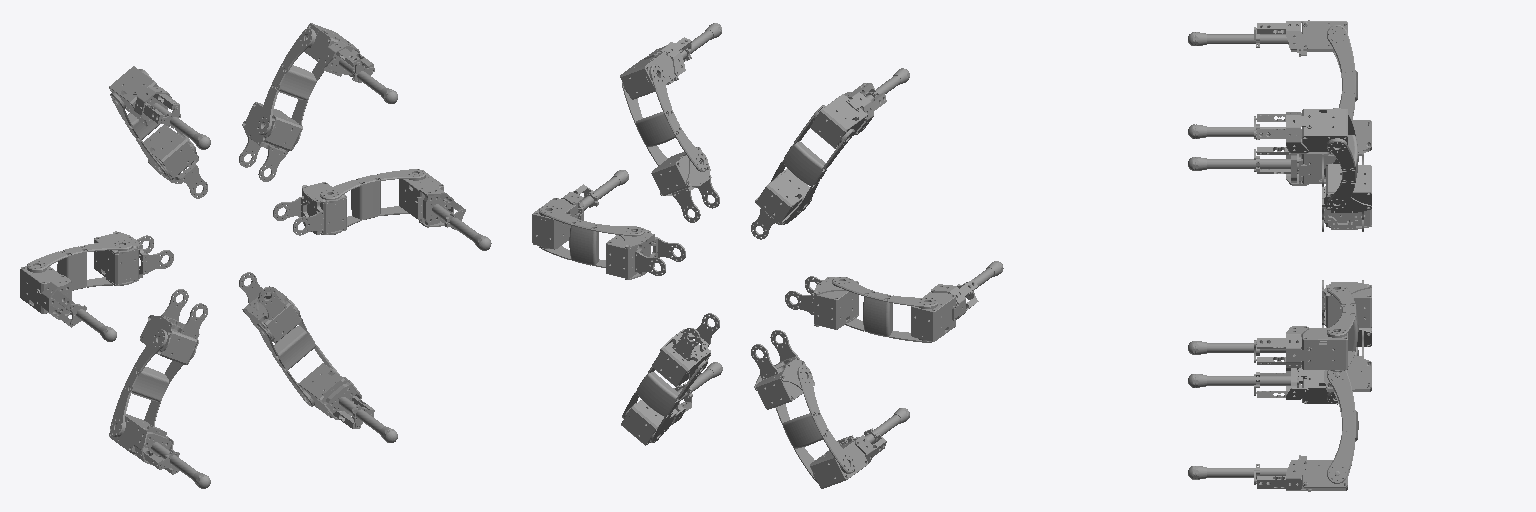
--- What the picture shows (computed from the rendered views, not written in the file) ---
Views: 3 orthographic renders of the robot side by side, from view 1: azimuth 30°, elevation 25°; view 2: azimuth 150°, elevation 25°; view 3: azimuth 270°, elevation 25°.
Model hapthexa with 19 links and 18 joints (18 continuous), rooted at base_link, posed all joints at 0.
Links seen in each view (by area): view 1: _Tibia__4__1, _Tibia_1, _Tibia__5__1, _Tibia__2__1, _Femur__3__1, _Tibia__1__1, _Tibia__3__1, _Femur__1__1, _Coxa__5__1, _Coxa__1__1, _Coxa__3__1, _Coxa__2__1 (+6 smaller); view 2: _Tibia_1, _Tibia__5__1, _Femur__1__1, _Femur__3__1, _Coxa__2__1, _Tibia__1__1, _Coxa__3__1, _Coxa__4__1, _Tibia__2__1, _Tibia__3__1, _Coxa__1__1, _Coxa__5__1 (+6 smaller); view 3: _Tibia__2__1, _Tibia__1__1, _Tibia__4__1, _Tibia_1, _Tibia__5__1, _Tibia__3__1, _Femur__4__1, _Coxa__1__1, _Femur__1__1, _Femur_1, _Coxa__2__1, _Femur__2__1 (+3 smaller).
Link boxes in pixels (x1=…): _Tibia__4__1: x1=298, y1=363, x2=397, y2=442; _Tibia_1: x1=109, y1=66, x2=210, y2=149; _Tibia__5__1: x1=20, y1=265, x2=116, y2=341; _Tibia__2__1: x1=399, y1=170, x2=491, y2=250; _Femur__3__1: x1=110, y1=329, x2=183, y2=436; _Tibia__1__1: x1=304, y1=23, x2=397, y2=103; _Tibia__3__1: x1=109, y1=414, x2=210, y2=488; _Femur__1__1: x1=257, y1=28, x2=323, y2=135; _Coxa__5__1: x1=94, y1=231, x2=173, y2=285; _Coxa__1__1: x1=239, y1=102, x2=302, y2=181; _Coxa__3__1: x1=140, y1=289, x2=207, y2=364; _Coxa__2__1: x1=273, y1=182, x2=346, y2=235; _Tibia_1: x1=810, y1=68, x2=909, y2=148; _Tibia__5__1: x1=911, y1=261, x2=1003, y2=341; _Femur__1__1: x1=622, y1=64, x2=707, y2=171; _Femur__3__1: x1=775, y1=366, x2=854, y2=482; _Coxa__2__1: x1=606, y1=228, x2=685, y2=279; _Tibia__1__1: x1=620, y1=23, x2=721, y2=99; _Coxa__3__1: x1=751, y1=330, x2=814, y2=409; _Coxa__4__1: x1=652, y1=313, x2=719, y2=387; _Tibia__2__1: x1=532, y1=170, x2=628, y2=249; _Tibia__3__1: x1=810, y1=408, x2=909, y2=488; _Coxa__1__1: x1=651, y1=147, x2=719, y2=222; _Coxa__5__1: x1=785, y1=276, x2=858, y2=329; _Tibia__2__1: x1=1188, y1=326, x2=1347, y2=369; _Tibia__1__1: x1=1188, y1=109, x2=1347, y2=152; _Tibia__4__1: x1=1188, y1=455, x2=1347, y2=491; _Tibia_1: x1=1188, y1=20, x2=1347, y2=56; _Tibia__5__1: x1=1188, y1=146, x2=1336, y2=185; _Tibia__3__1: x1=1188, y1=367, x2=1336, y2=403; _Femur__4__1: x1=1327, y1=370, x2=1358, y2=483; _Coxa__1__1: x1=1322, y1=164, x2=1371, y2=219; _Femur__1__1: x1=1327, y1=108, x2=1358, y2=208; _Femur_1: x1=1327, y1=25, x2=1357, y2=120; _Coxa__2__1: x1=1322, y1=280, x2=1371, y2=327; _Femur__2__1: x1=1327, y1=284, x2=1358, y2=371.
Size in the robot's own frame: 0.4755 by 0.186 by 0.4258 metres.
Meshes: 19 distinct files referenced, 18 mesh visuals loaded (18 binary STL); not drawn: 1 (reference not matched to a file when rendering).

robot.urdf — hapthexa:
<?xml version="1.0" ?>
<!-- =================================================================================== -->
<!-- |    This document was autogenerated by xacro from [local-path]/ros2_ws/src/hapthexa_description/urdf/hapthexa.xacro | -->
<!-- |    EDITING THIS FILE BY HAND IS NOT RECOMMENDED                                 | -->
<!-- =================================================================================== -->
<robot name="hapthexa">
  <material name="silver_default">
    <color rgba="0.700 0.700 0.700 1.000"/>
  </material>
  <material name="opaque555">
    <color rgba="0.0196078431372549 0.0196078431372549 0.0196078431372549 1.0"/>
  </material>
  <material name="_">
    <color rgba="0.6274509803921569 0.6274509803921569 0.6274509803921569 1.0"/>
  </material>
  <transmission name="rev1_tran">
    <type>transmission_interface/SimpleTransmission</type>
    <joint name="rev1">
      <hardwareInterface>hardware_interface/EffortJointInterface</hardwareInterface>
    </joint>
    <actuator name="rev1_actr">
      <hardwareInterface>hardware_interface/EffortJointInterface</hardwareInterface>
      <mechanicalReduction>1</mechanicalReduction>
    </actuator>
  </transmission>
  <transmission name="rev2_tran">
    <type>transmission_interface/SimpleTransmission</type>
    <joint name="rev2">
      <hardwareInterface>hardware_interface/EffortJointInterface</hardwareInterface>
    </joint>
    <actuator name="rev2_actr">
      <hardwareInterface>hardware_interface/EffortJointInterface</hardwareInterface>
      <mechanicalReduction>1</mechanicalReduction>
    </actuator>
  </transmission>
  <transmission name="rev3_tran">
    <type>transmission_interface/SimpleTransmission</type>
    <joint name="rev3">
      <hardwareInterface>hardware_interface/EffortJointInterface</hardwareInterface>
    </joint>
    <actuator name="rev3_actr">
      <hardwareInterface>hardware_interface/EffortJointInterface</hardwareInterface>
      <mechanicalReduction>1</mechanicalReduction>
    </actuator>
  </transmission>
  <transmission name="rev4_tran">
    <type>transmission_interface/SimpleTransmission</type>
    <joint name="rev4">
      <hardwareInterface>hardware_interface/EffortJointInterface</hardwareInterface>
    </joint>
    <actuator name="rev4_actr">
      <hardwareInterface>hardware_interface/EffortJointInterface</hardwareInterface>
      <mechanicalReduction>1</mechanicalReduction>
    </actuator>
  </transmission>
  <transmission name="rev5_tran">
    <type>transmission_interface/SimpleTransmission</type>
    <joint name="rev5">
      <hardwareInterface>hardware_interface/EffortJointInterface</hardwareInterface>
    </joint>
    <actuator name="rev5_actr">
      <hardwareInterface>hardware_interface/EffortJointInterface</hardwareInterface>
      <mechanicalReduction>1</mechanicalReduction>
    </actuator>
  </transmission>
  <transmission name="rev6_tran">
    <type>transmission_interface/SimpleTransmission</type>
    <joint name="rev6">
      <hardwareInterface>hardware_interface/EffortJointInterface</hardwareInterface>
    </joint>
    <actuator name="rev6_actr">
      <hardwareInterface>hardware_interface/EffortJointInterface</hardwareInterface>
      <mechanicalReduction>1</mechanicalReduction>
    </actuator>
  </transmission>
  <transmission name="rev7_tran">
    <type>transmission_interface/SimpleTransmission</type>
    <joint name="rev7">
      <hardwareInterface>hardware_interface/EffortJointInterface</hardwareInterface>
    </joint>
    <actuator name="rev7_actr">
      <hardwareInterface>hardware_interface/EffortJointInterface</hardwareInterface>
      <mechanicalReduction>1</mechanicalReduction>
    </actuator>
  </transmission>
  <transmission name="rev8_tran">
    <type>transmission_interface/SimpleTransmission</type>
    <joint name="rev8">
      <hardwareInterface>hardware_interface/EffortJointInterface</hardwareInterface>
    </joint>
    <actuator name="rev8_actr">
      <hardwareInterface>hardware_interface/EffortJointInterface</hardwareInterface>
      <mechanicalReduction>1</mechanicalReduction>
    </actuator>
  </transmission>
  <transmission name="rev9_tran">
    <type>transmission_interface/SimpleTransmission</type>
    <joint name="rev9">
      <hardwareInterface>hardware_interface/EffortJointInterface</hardwareInterface>
    </joint>
    <actuator name="rev9_actr">
      <hardwareInterface>hardware_interface/EffortJointInterface</hardwareInterface>
      <mechanicalReduction>1</mechanicalReduction>
    </actuator>
  </transmission>
  <transmission name="rev10_tran">
    <type>transmission_interface/SimpleTransmission</type>
    <joint name="rev10">
      <hardwareInterface>hardware_interface/EffortJointInterface</hardwareInterface>
    </joint>
    <actuator name="rev10_actr">
      <hardwareInterface>hardware_interface/EffortJointInterface</hardwareInterface>
      <mechanicalReduction>1</mechanicalReduction>
    </actuator>
  </transmission>
  <transmission name="rev11_tran">
    <type>transmission_interface/SimpleTransmission</type>
    <joint name="rev11">
      <hardwareInterface>hardware_interface/EffortJointInterface</hardwareInterface>
    </joint>
    <actuator name="rev11_actr">
      <hardwareInterface>hardware_interface/EffortJointInterface</hardwareInterface>
      <mechanicalReduction>1</mechanicalReduction>
    </actuator>
  </transmission>
  <transmission name="rev12_tran">
    <type>transmission_interface/SimpleTransmission</type>
    <joint name="rev12">
      <hardwareInterface>hardware_interface/EffortJointInterface</hardwareInterface>
    </joint>
    <actuator name="rev12_actr">
      <hardwareInterface>hardware_interface/EffortJointInterface</hardwareInterface>
      <mechanicalReduction>1</mechanicalReduction>
    </actuator>
  </transmission>
  <transmission name="rev13_tran">
    <type>transmission_interface/SimpleTransmission</type>
    <joint name="rev13">
      <hardwareInterface>hardware_interface/EffortJointInterface</hardwareInterface>
    </joint>
    <actuator name="rev13_actr">
      <hardwareInterface>hardware_interface/EffortJointInterface</hardwareInterface>
      <mechanicalReduction>1</mechanicalReduction>
    </actuator>
  </transmission>
  <transmission name="rev14_tran">
    <type>transmission_interface/SimpleTransmission</type>
    <joint name="rev14">
      <hardwareInterface>hardware_interface/EffortJointInterface</hardwareInterface>
    </joint>
    <actuator name="rev14_actr">
      <hardwareInterface>hardware_interface/EffortJointInterface</hardwareInterface>
      <mechanicalReduction>1</mechanicalReduction>
    </actuator>
  </transmission>
  <transmission name="rev15_tran">
    <type>transmission_interface/SimpleTransmission</type>
    <joint name="rev15">
      <hardwareInterface>hardware_interface/EffortJointInterface</hardwareInterface>
    </joint>
    <actuator name="rev15_actr">
      <hardwareInterface>hardware_interface/EffortJointInterface</hardwareInterface>
      <mechanicalReduction>1</mechanicalReduction>
    </actuator>
  </transmission>
  <transmission name="rev16_tran">
    <type>transmission_interface/SimpleTransmission</type>
    <joint name="rev16">
      <hardwareInterface>hardware_interface/EffortJointInterface</hardwareInterface>
    </joint>
    <actuator name="rev16_actr">
      <hardwareInterface>hardware_interface/EffortJointInterface</hardwareInterface>
      <mechanicalReduction>1</mechanicalReduction>
    </actuator>
  </transmission>
  <transmission name="rev17_tran">
    <type>transmission_interface/SimpleTransmission</type>
    <joint name="rev17">
      <hardwareInterface>hardware_interface/EffortJointInterface</hardwareInterface>
    </joint>
    <actuator name="rev17_actr">
      <hardwareInterface>hardware_interface/EffortJointInterface</hardwareInterface>
      <mechanicalReduction>1</mechanicalReduction>
    </actuator>
  </transmission>
  <transmission name="rev18_tran">
    <type>transmission_interface/SimpleTransmission</type>
    <joint name="rev18">
      <hardwareInterface>hardware_interface/EffortJointInterface</hardwareInterface>
    </joint>
    <actuator name="rev18_actr">
      <hardwareInterface>hardware_interface/EffortJointInterface</hardwareInterface>
      <mechanicalReduction>1</mechanicalReduction>
    </actuator>
  </transmission>
  <link name="base_link">
    <inertial>
      <origin rpy="0 0 0" xyz="-0.023482686234529128 0.009399208569724241 -0.030381180045183934"/>
      <mass value="0.5111070184633425"/>
      <inertia ixx="0.001015" ixy="3e-06" ixz="-3e-06" iyy="0.001772" iyz="-1e-06" izz="0.000909"/>
    </inertial>
    <visual>
      <origin rpy="0 0 0" xyz="0 0 0"/>
      <geometry>
        <mesh filename="package://hapthexa_description/meshes/base_link.stl" scale="0.001 0.001 0.001"/>
      </geometry>
      <material name="opaque555"/>
    </visual>
    <collision>
      <origin rpy="0 0 0" xyz="0 0 0"/>
      <geometry>
        <mesh filename="package://hapthexa_description/meshes/base_link.stl" scale="0.001 0.001 0.001"/>
      </geometry>
    </collision>
  </link>
  <link name="_Coxa__4__1">
    <inertial>
      <origin rpy="0 0 0" xyz="0.019504685340380374 -0.012341676148518561 -0.03452353861717494"/>
      <mass value="0.050011908854628584"/>
      <inertia ixx="1.5e-05" ixy="-0.0" ixz="0.0" iyy="1.1e-05" iyz="0.0" izz="1.5e-05"/>
    </inertial>
    <visual>
      <origin rpy="0 0 0" xyz="-0.016517 -0.026286 0.099741"/>
      <geometry>
        <mesh filename="package://hapthexa_description/meshes/_Coxa__4__1.stl" scale="0.001 0.001 0.001"/>
      </geometry>
      <material name="_"/>
    </visual>
    <collision>
      <origin rpy="0 0 0" xyz="-0.016517 -0.026286 0.099741"/>
      <geometry>
        <mesh filename="package://hapthexa_description/meshes/_Coxa__4__1.stl" scale="0.001 0.001 0.001"/>
      </geometry>
    </collision>
  </link>
  <link name="_Coxa__2__1">
    <inertial>
      <origin rpy="0 0 0" xyz="0.039650915389736474 -0.012341676148518515 -0.0003698293133218289"/>
      <mass value="0.050011908854628584"/>
      <inertia ixx="1.5e-05" ixy="-0.0" ixz="0.0" iyy="1.1e-05" iyz="-0.0" izz="1.5e-05"/>
    </inertial>
    <visual>
      <origin rpy="0 0 0" xyz="-0.056517 -0.026286 0.030459"/>
      <geometry>
        <mesh filename="package://hapthexa_description/meshes/_Coxa__2__1.stl" scale="0.001 0.001 0.001"/>
      </geometry>
      <material name="_"/>
    </visual>
    <collision>
      <origin rpy="0 0 0" xyz="-0.056517 -0.026286 0.030459"/>
      <geometry>
        <mesh filename="package://hapthexa_description/meshes/_Coxa__2__1.stl" scale="0.001 0.001 0.001"/>
      </geometry>
    </collision>
  </link>
  <link name="_Coxa__1__1">
    <inertial>
      <origin rpy="0 0 0" xyz="0.020283607961812552 -0.012341676148510491 0.03407168985837998"/>
      <mass value="0.050011908854628584"/>
      <inertia ixx="1.5e-05" ixy="-0.0" ixz="-0.0" iyy="1.1e-05" iyz="-0.0" izz="1.5e-05"/>
    </inertial>
    <visual>
      <origin rpy="0 0 0" xyz="-0.016517 -0.026286 -0.038824"/>
      <geometry>
        <mesh filename="package://hapthexa_description/meshes/_Coxa__1__1.stl" scale="0.001 0.001 0.001"/>
      </geometry>
      <material name="_"/>
    </visual>
    <collision>
      <origin rpy="0 0 0" xyz="-0.016517 -0.026286 -0.038824"/>
      <geometry>
        <mesh filename="package://hapthexa_description/meshes/_Coxa__1__1.stl" scale="0.001 0.001 0.001"/>
      </geometry>
    </collision>
  </link>
  <link name="_Coxa_1">
    <inertial>
      <origin rpy="0 0 0" xyz="-0.019504988441448892 -0.012439675760187565 0.03452349701588872"/>
      <mass value="0.050011908854628584"/>
      <inertia ixx="1.5e-05" ixy="0.0" ixz="0.0" iyy="1.1e-05" iyz="-0.0" izz="1.5e-05"/>
    </inertial>
    <visual>
      <origin rpy="0 0 0" xyz="0.063483 -0.026286 -0.038824"/>
      <geometry>
        <mesh filename="package://hapthexa_description/meshes/_Coxa_1.stl" scale="0.001 0.001 0.001"/>
      </geometry>
      <material name="_"/>
    </visual>
    <collision>
      <origin rpy="0 0 0" xyz="0.063483 -0.026286 -0.038824"/>
      <geometry>
        <mesh filename="package://hapthexa_description/meshes/_Coxa_1.stl" scale="0.001 0.001 0.001"/>
      </geometry>
    </collision>
  </link>
  <link name="_Coxa__5__1">
    <inertial>
      <origin rpy="0 0 0" xyz="-0.039651218490817194 -0.012341676148518447 0.0003707877120360213"/>
      <mass value="0.050011908854628584"/>
      <inertia ixx="1.5e-05" ixy="0.0" ixz="0.0" iyy="1.1e-05" iyz="0.0" izz="1.5e-05"/>
    </inertial>
    <visual>
      <origin rpy="0 0 0" xyz="0.103483 -0.026286 0.030459"/>
      <geometry>
        <mesh filename="package://hapthexa_description/meshes/_Coxa__5__1.stl" scale="0.001 0.001 0.001"/>
      </geometry>
      <material name="_"/>
    </visual>
    <collision>
      <origin rpy="0 0 0" xyz="0.103483 -0.026286 0.030459"/>
      <geometry>
        <mesh filename="package://hapthexa_description/meshes/_Coxa__5__1.stl" scale="0.001 0.001 0.001"/>
      </geometry>
    </collision>
  </link>
  <link name="_Coxa__3__1">
    <inertial>
      <origin rpy="0 0 0" xyz="-0.020146381599897206 -0.01234167614851837 -0.034153230104497306"/>
      <mass value="0.050011908854628584"/>
      <inertia ixx="1.5e-05" ixy="0.0" ixz="-0.0" iyy="1.1e-05" iyz="0.0" izz="1.5e-05"/>
    </inertial>
    <visual>
      <origin rpy="0 0 0" xyz="0.063483 -0.026286 0.099741"/>
      <geometry>
        <mesh filename="package://hapthexa_description/meshes/_Coxa__3__1.stl" scale="0.001 0.001 0.001"/>
      </geometry>
      <material name="_"/>
    </visual>
    <collision>
      <origin rpy="0 0 0" xyz="0.063483 -0.026286 0.099741"/>
      <geometry>
        <mesh filename="package://hapthexa_description/meshes/_Coxa__3__1.stl" scale="0.001 0.001 0.001"/>
      </geometry>
    </collision>
  </link>
  <link name="_Femur__1__1">
    <inertial>
      <origin rpy="0 0 0" xyz="0.0415906312765175 0.010989309598100948 0.03363429654287885"/>
      <mass value="0.02302342374104796"/>
      <inertia ixx="9e-06" ixy="-0.0" ixz="-2e-06" iyy="1.4e-05" iyz="-0.0" izz="7e-06"/>
    </inertial>
    <visual>
      <origin rpy="0 0 0" xyz="-0.02142 -0.002786 -0.084577"/>
      <geometry>
        <mesh filename="package://hapthexa_description/meshes/_Femur__1__1.stl" scale="0.001 0.001 0.001"/>
      </geometry>
      <material name="_"/>
    </visual>
    <collision>
      <origin rpy="0 0 0" xyz="-0.02142 -0.002786 -0.084577"/>
      <geometry>
        <mesh filename="package://hapthexa_description/meshes/_Femur__1__1.stl" scale="0.001 0.001 0.001"/>
      </geometry>
    </collision>
  </link>
  <link name="_Femur_1">
    <inertial>
      <origin rpy="0 0 0" xyz="-0.008546088557166681 0.01098930959810179 0.052801094546086225"/>
      <mass value="0.02302342374104796"/>
      <inertia ixx="9e-06" ixy="0.0" ixz="2e-06" iyy="1.4e-05" iyz="-0.0" izz="7e-06"/>
    </inertial>
    <visual>
      <origin rpy="0 0 0" xyz="0.100764 -0.002686 -0.065797"/>
      <geometry>
        <mesh filename="package://hapthexa_description/meshes/_Femur_1.stl" scale="0.001 0.001 0.001"/>
      </geometry>
      <material name="_"/>
    </visual>
    <collision>
      <origin rpy="0 0 0" xyz="0.100764 -0.002686 -0.065797"/>
      <geometry>
        <mesh filename="package://hapthexa_description/meshes/_Femur_1.stl" scale="0.001 0.001 0.001"/>
      </geometry>
    </collision>
  </link>
  <link name="_Femur__5__1">
    <inertial>
      <origin rpy="0 0 0" xyz="-0.05000043554625219 0.010989309598091091 0.01900047909596079"/>
      <mass value="0.02302342374104796"/>
      <inertia ixx="5e-06" ixy="0.0" ixz="0.0" iyy="1.4e-05" iyz="0.0" izz="1e-05"/>
    </inertial>
    <visual>
      <origin rpy="0 0 0" xyz="0.145483 -0.002786 0.049259"/>
      <geometry>
        <mesh filename="package://hapthexa_description/meshes/_Femur__5__1.stl" scale="0.001 0.001 0.001"/>
      </geometry>
      <material name="_"/>
    </visual>
    <collision>
      <origin rpy="0 0 0" xyz="0.145483 -0.002786 0.049259"/>
      <geometry>
        <mesh filename="package://hapthexa_description/meshes/_Femur__5__1.stl" scale="0.001 0.001 0.001"/>
      </geometry>
    </collision>
  </link>
  <link name="_Femur__3__1">
    <inertial>
      <origin rpy="0 0 0" xyz="-0.0414544985396066 0.010989309598090703 -0.033801136250771024"/>
      <mass value="0.02302342374104796"/>
      <inertia ixx="9e-06" ixy="0.0" ixz="-2e-06" iyy="1.4e-05" iyz="0.0" izz="7e-06"/>
    </inertial>
    <visual>
      <origin rpy="0 0 0" xyz="0.068202 -0.002786 0.145514"/>
      <geometry>
        <mesh filename="package://hapthexa_description/meshes/_Femur__3__1.stl" scale="0.001 0.001 0.001"/>
      </geometry>
      <material name="_"/>
    </visual>
    <collision>
      <origin rpy="0 0 0" xyz="0.068202 -0.002786 0.145514"/>
      <geometry>
        <mesh filename="package://hapthexa_description/meshes/_Femur__3__1.stl" scale="0.001 0.001 0.001"/>
      </geometry>
    </collision>
  </link>
  <link name="_Femur__4__1">
    <inertial>
      <origin rpy="0 0 0" xyz="0.008545785456105369 0.01098930959808993 -0.05280113614736581"/>
      <mass value="0.02302342374104796"/>
      <inertia ixx="9e-06" ixy="-0.0" ixz="2e-06" iyy="1.4e-05" iyz="0.0" izz="7e-06"/>
    </inertial>
    <visual>
      <origin rpy="0 0 0" xyz="-0.053798 -0.002786 0.126714"/>
      <geometry>
        <mesh filename="package://hapthexa_description/meshes/_Femur__4__1.stl" scale="0.001 0.001 0.001"/>
      </geometry>
      <material name="_"/>
    </visual>
    <collision>
      <origin rpy="0 0 0" xyz="-0.053798 -0.002786 0.126714"/>
      <geometry>
        <mesh filename="package://hapthexa_description/meshes/_Femur__4__1.stl" scale="0.001 0.001 0.001"/>
      </geometry>
    </collision>
  </link>
  <link name="_Femur__2__1">
    <inertial>
      <origin rpy="0 0 0" xyz="0.05000013244517007 0.010989309598089504 -0.018999520697242166"/>
      <mass value="0.02302342374104796"/>
      <inertia ixx="5e-06" ixy="-0.0" ixz="0.0" iyy="1.4e-05" iyz="-0.0" izz="1e-05"/>
    </inertial>
    <visual>
      <origin rpy="0 0 0" xyz="-0.098517 -0.002786 0.011659"/>
      <geometry>
        <mesh filename="package://hapthexa_description/meshes/_Femur__2__1.stl" scale="0.001 0.001 0.001"/>
      </geometry>
      <material name="_"/>
    </visual>
    <collision>
      <origin rpy="0 0 0" xyz="-0.098517 -0.002786 0.011659"/>
      <geometry>
        <mesh filename="package://hapthexa_description/meshes/_Femur__2__1.stl" scale="0.001 0.001 0.001"/>
      </geometry>
    </collision>
  </link>
  <link name="_Tibia__5__1">
    <inertial>
      <origin rpy="0 0 0" xyz="-0.0009218855506323564 -0.03197242771014009 0.02105715717094631"/>
      <mass value="0.07242936236987811"/>
      <inertia ixx="8.4e-05" ixy="-1e-06" ixz="-0.0" iyy="1.2e-05" iyz="-0.0" izz="8.1e-05"/>
    </inertial>
    <visual>
      <origin rpy="0 0 0" xyz="0.245483 -0.002786 0.051259"/>
      <geometry>
        <mesh filename="package://hapthexa_description/meshes/_Tibia__5__1.stl" scale="0.001 0.001 0.001"/>
      </geometry>
      <material name="_"/>
    </visual>
    <collision>
      <origin rpy="0 0 0" xyz="0.245483 -0.002786 0.051259"/>
      <geometry>
        <mesh filename="package://hapthexa_description/meshes/_Tibia__5__1.stl" scale="0.001 0.001 0.001"/>
      </geometry>
    </collision>
  </link>
  <link name="_Tibia__3__1">
    <inertial>
      <origin rpy="0 0 0" xyz="-0.018696308194575947 -0.03197242771013894 0.009729933485388115"/>
      <mass value="0.07242936236987811"/>
      <inertia ixx="8.2e-05" ixy="-0.0" ixz="1e-06" iyy="1.2e-05" iyz="-1e-06" izz="8.3e-05"/>
    </inertial>
    <visual>
      <origin rpy="0 0 0" xyz="0.11647 -0.002786 0.233116"/>
      <geometry>
        <mesh filename="package://hapthexa_description/meshes/_Tibia__3__1.stl" scale="0.001 0.001 0.001"/>
      </geometry>
      <material name="_"/>
    </visual>
    <collision>
      <origin rpy="0 0 0" xyz="0.11647 -0.002786 0.233116"/>
      <geometry>
        <mesh filename="package://hapthexa_description/meshes/_Tibia__3__1.stl" scale="0.001 0.001 0.001"/>
      </geometry>
    </collision>
  </link>
  <link name="_Tibia__4__1">
    <inertial>
      <origin rpy="0 0 0" xyz="-0.017774574194482445 -0.03197242771014097 -0.011326744486193502"/>
      <mass value="0.07242936236987811"/>
      <inertia ixx="8.2e-05" ixy="1e-06" ixz="-1e-06" iyy="1.2e-05" iyz="-1e-06" izz="8.3e-05"/>
    </inertial>
    <visual>
      <origin rpy="0 0 0" xyz="-0.10553 -0.002786 0.212316"/>
      <geometry>
        <mesh filename="package://hapthexa_description/meshes/_Tibia__4__1.stl" scale="0.001 0.001 0.001"/>
      </geometry>
      <material name="_"/>
    </visual>
    <collision>
      <origin rpy="0 0 0" xyz="-0.10553 -0.002786 0.212316"/>
      <geometry>
        <mesh filename="package://hapthexa_description/meshes/_Tibia__4__1.stl" scale="0.001 0.001 0.001"/>
      </geometry>
    </collision>
  </link>
  <link name="_Tibia__2__1">
    <inertial>
      <origin rpy="0 0 0" xyz="0.0009215824495506231 -0.031972427710139716 -0.021056198772232727"/>
      <mass value="0.07242936236987811"/>
      <inertia ixx="8.4e-05" ixy="1e-06" ixz="-0.0" iyy="1.2e-05" iyz="0.0" izz="8.1e-05"/>
    </inertial>
    <visual>
      <origin rpy="0 0 0" xyz="-0.198517 -0.002786 0.009659"/>
      <geometry>
        <mesh filename="package://hapthexa_description/meshes/_Tibia__2__1.stl" scale="0.001 0.001 0.001"/>
      </geometry>
      <material name="_"/>
    </visual>
    <collision>
      <origin rpy="0 0 0" xyz="-0.198517 -0.002786 0.009659"/>
      <geometry>
        <mesh filename="package://hapthexa_description/meshes/_Tibia__2__1.stl" scale="0.001 0.001 0.001"/>
      </geometry>
    </collision>
  </link>
  <link name="_Tibia__1__1">
    <inertial>
      <origin rpy="0 0 0" xyz="0.01865690897846689 -0.031972427710124596 -0.009804976119725611"/>
      <mass value="0.07242936236987811"/>
      <inertia ixx="8.2e-05" ixy="0.0" ixz="1e-06" iyy="1.2e-05" iyz="1e-06" izz="8.3e-05"/>
    </inertial>
    <visual>
      <origin rpy="0 0 0" xyz="-0.070041 -0.002786 -0.171984"/>
      <geometry>
        <mesh filename="package://hapthexa_description/meshes/_Tibia__1__1.stl" scale="0.001 0.001 0.001"/>
      </geometry>
      <material name="_"/>
    </visual>
    <collision>
      <origin rpy="0 0 0" xyz="-0.070041 -0.002786 -0.171984"/>
      <geometry>
        <mesh filename="package://hapthexa_description/meshes/_Tibia__1__1.stl" scale="0.001 0.001 0.001"/>
      </geometry>
    </collision>
  </link>
  <link name="_Tibia_1">
    <inertial>
      <origin rpy="0 0 0" xyz="0.017774271093425914 -0.0319724277101257 0.011326702884919576"/>
      <mass value="0.07242936236987811"/>
      <inertia ixx="8.2e-05" ixy="-1e-06" ixz="-1e-06" iyy="1.2e-05" iyz="1e-06" izz="8.3e-05"/>
    </inertial>
    <visual>
      <origin rpy="0 0 0" xyz="0.152496 -0.002686 -0.151399"/>
      <geometry>
        <mesh filename="package://hapthexa_description/meshes/_Tibia_1.stl" scale="0.001 0.001 0.001"/>
      </geometry>
      <material name="_"/>
    </visual>
    <collision>
      <origin rpy="0 0 0" xyz="0.152496 -0.002686 -0.151399"/>
      <geometry>
        <mesh filename="package://hapthexa_description/meshes/_Tibia_1.stl" scale="0.001 0.001 0.001"/>
      </geometry>
    </collision>
  </link>
  <joint name="rev1" type="continuous">
    <origin rpy="0 0 0" xyz="0.016517 0.026286 -0.099741"/>
    <parent link="base_link"/>
    <child link="_Coxa__4__1"/>
    <axis xyz="-0.0 1.0 -0.0"/>
  </joint>
  <joint name="rev2" type="continuous">
    <origin rpy="0 0 0" xyz="0.056517 0.026286 -0.030459"/>
    <parent link="base_link"/>
    <child link="_Coxa__2__1"/>
    <axis xyz="0.0 1.0 -0.0"/>
  </joint>
  <joint name="rev3" type="continuous">
    <origin rpy="0 0 0" xyz="0.016517 0.026286 0.038824"/>
    <parent link="base_link"/>
    <child link="_Coxa__1__1"/>
    <axis xyz="-0.0 1.0 0.0"/>
  </joint>
  <joint name="rev4" type="continuous">
    <origin rpy="0 0 0" xyz="-0.063483 0.026286 0.038824"/>
    <parent link="base_link"/>
    <child link="_Coxa_1"/>
    <axis xyz="0.0 1.0 0.0"/>
  </joint>
  <joint name="rev5" type="continuous">
    <origin rpy="0 0 0" xyz="-0.103483 0.026286 -0.030459"/>
    <parent link="base_link"/>
    <child link="_Coxa__5__1"/>
    <axis xyz="-0.0 1.0 -0.0"/>
  </joint>
  <joint name="rev6" type="continuous">
    <origin rpy="0 0 0" xyz="-0.063483 0.026286 -0.099741"/>
    <parent link="base_link"/>
    <child link="_Coxa__3__1"/>
    <axis xyz="0.0 1.0 -0.0"/>
  </joint>
  <joint name="rev7" type="continuous">
    <origin rpy="0 0 0" xyz="0.004903 -0.0235 0.045753"/>
    <parent link="_Coxa__1__1"/>
    <child link="_Femur__1__1"/>
    <axis xyz="-0.864003 -0.0 0.503487"/>
  </joint>
  <joint name="rev8" type="continuous">
    <origin rpy="0 0 0" xyz="-0.037281 -0.0236 0.026973"/>
    <parent link="_Coxa_1"/>
    <child link="_Femur_1"/>
    <axis xyz="-0.866025 0.0 -0.5"/>
  </joint>
  <joint name="rev9" type="continuous">
    <origin rpy="0 0 0" xyz="-0.042 -0.0235 -0.0188"/>
    <parent link="_Coxa__5__1"/>
    <child link="_Femur__5__1"/>
    <axis xyz="0.0 0.0 -1.0"/>
  </joint>
  <joint name="rev10" type="continuous">
    <origin rpy="0 0 0" xyz="-0.004719 -0.0235 -0.045773"/>
    <parent link="_Coxa__3__1"/>
    <child link="_Femur__3__1"/>
    <axis xyz="0.866025 -0.0 -0.5"/>
  </joint>
  <joint name="rev11" type="continuous">
    <origin rpy="0 0 0" xyz="0.037281 -0.0235 -0.026973"/>
    <parent link="_Coxa__4__1"/>
    <child link="_Femur__4__1"/>
    <axis xyz="0.866025 0.0 0.5"/>
  </joint>
  <joint name="rev12" type="continuous">
    <origin rpy="0 0 0" xyz="0.042 -0.0235 0.0188"/>
    <parent link="_Coxa__2__1"/>
    <child link="_Femur__2__1"/>
    <axis xyz="0.0 0.0 1.0"/>
  </joint>
  <joint name="rev13" type="continuous">
    <origin rpy="0 0 0" xyz="-0.1 0.0 -0.002"/>
    <parent link="_Femur__5__1"/>
    <child link="_Tibia__5__1"/>
    <axis xyz="-0.0 -0.0 1.0"/>
  </joint>
  <joint name="rev14" type="continuous">
    <origin rpy="0 0 0" xyz="-0.048268 0.0 -0.087602"/>
    <parent link="_Femur__3__1"/>
    <child link="_Tibia__3__1"/>
    <axis xyz="-0.866025 0.0 0.5"/>
  </joint>
  <joint name="rev15" type="continuous">
    <origin rpy="0 0 0" xyz="0.051732 0.0 -0.085602"/>
    <parent link="_Femur__4__1"/>
    <child link="_Tibia__4__1"/>
    <axis xyz="-0.866025 -0.0 -0.5"/>
  </joint>
  <joint name="rev16" type="continuous">
    <origin rpy="0 0 0" xyz="0.1 0.0 0.002"/>
    <parent link="_Femur__2__1"/>
    <child link="_Tibia__2__1"/>
    <axis xyz="-0.0 -0.0 -1.0"/>
  </joint>
  <joint name="rev17" type="continuous">
    <origin rpy="0 0 0" xyz="0.048621 0.0 0.087407"/>
    <parent link="_Femur__1__1"/>
    <child link="_Tibia__1__1"/>
    <axis xyz="0.864003 0.0 -0.503487"/>
  </joint>
  <joint name="rev18" type="continuous">
    <origin rpy="0 0 0" xyz="-0.051732 0.0 0.085602"/>
    <parent link="_Femur_1"/>
    <child link="_Tibia_1"/>
    <axis xyz="0.866025 -0.0 0.5"/>
  </joint>
</robot>
